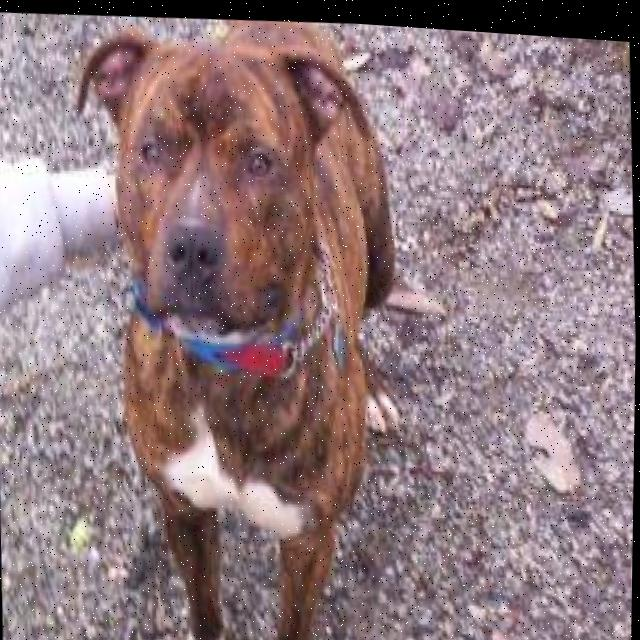dogs: (57, 3, 418, 640)
